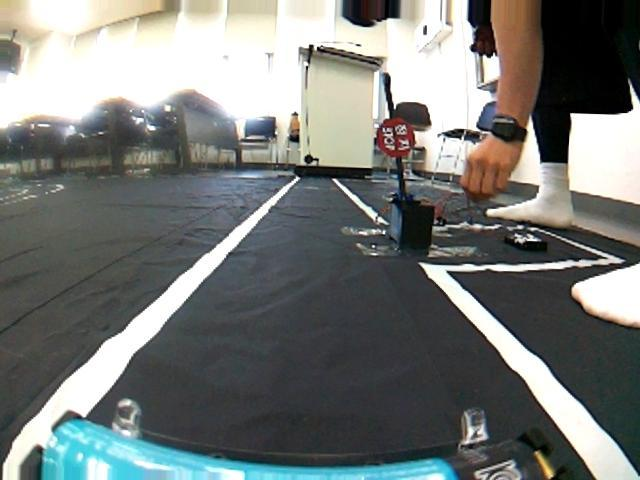sign_stop: (372, 115, 418, 159)
straight: (7, 195, 640, 479)
